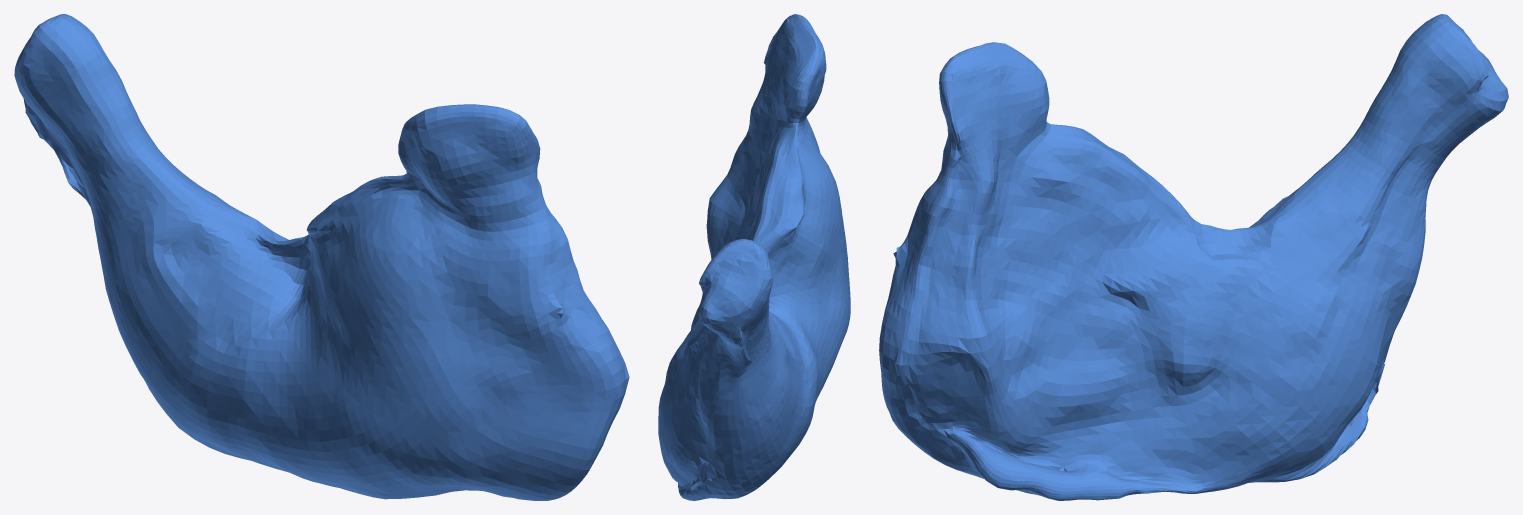
The model's file is uploads_files_2908437_uploads_files_2389647_pollo.fbx.
3 views of the same model, side by side, from view 1: azimuth 30°, elevation 25°; view 2: azimuth 150°, elevation 25°; view 3: azimuth 270°, elevation 25° (orthographic). The views are drawn at different scales.
Parts seen in each view (by area): view 1: Model; view 2: Model; view 3: Model.
Part boxes in pixels (x1,y1,x2,y2): Model: (14,14,629,500); Model: (658,14,850,500); Model: (879,14,1508,500).
Size of the model in its own units: 0.1253 by 0.217 by 0.1674.
